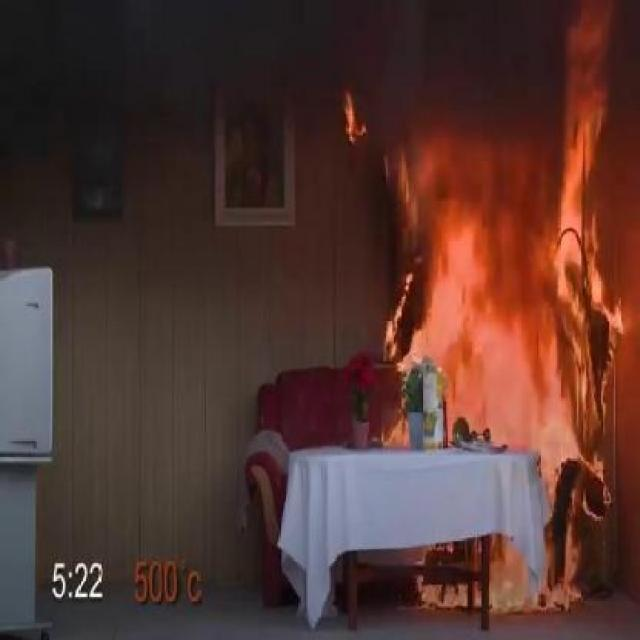fire: (334, 76, 600, 624)
smoke: (2, 0, 550, 186)
